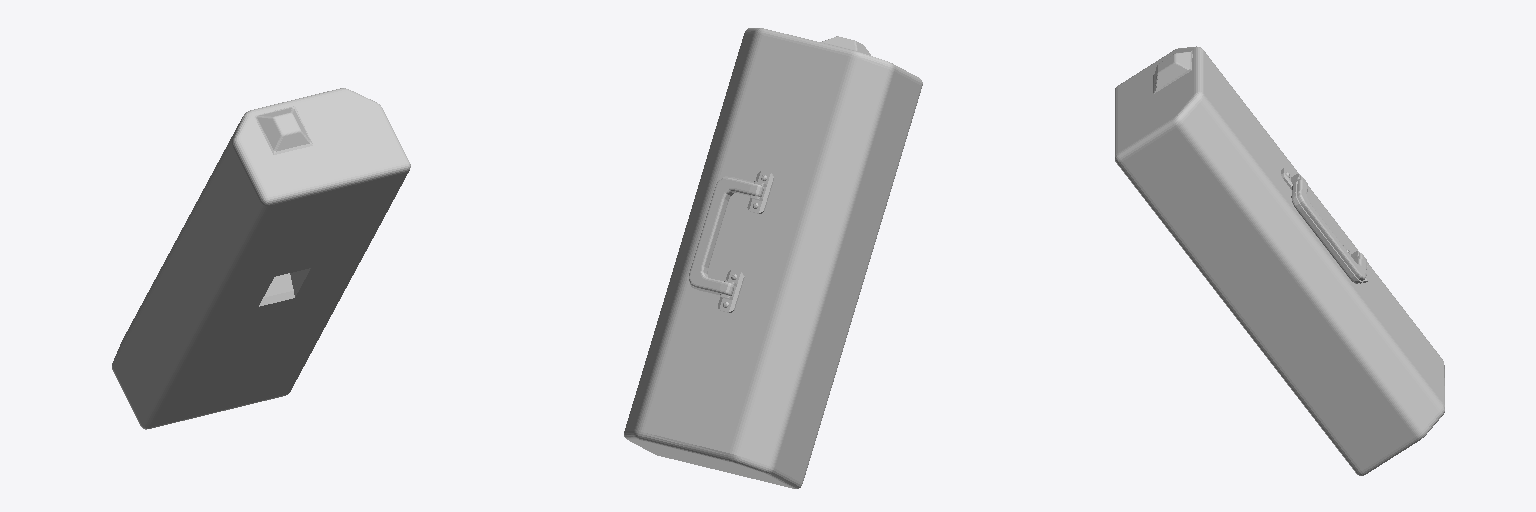
The model's file is toolbox.obj.
The picture shows the model from 3 angles: view 1: azimuth 30°, elevation 25°; view 2: azimuth 150°, elevation 25°; view 3: azimuth 270°, elevation 25°; orthographic projection.
Visible parts, largest first — view 1: toolbox; view 2: toolbox; view 3: toolbox.
Part boxes in pixels (bbox=[...]): toolbox: bbox=[112, 88, 410, 429]; toolbox: bbox=[624, 28, 922, 488]; toolbox: bbox=[1115, 46, 1444, 475].
Bounding box in the file's own units: 22 × 52.41 × 42.23.